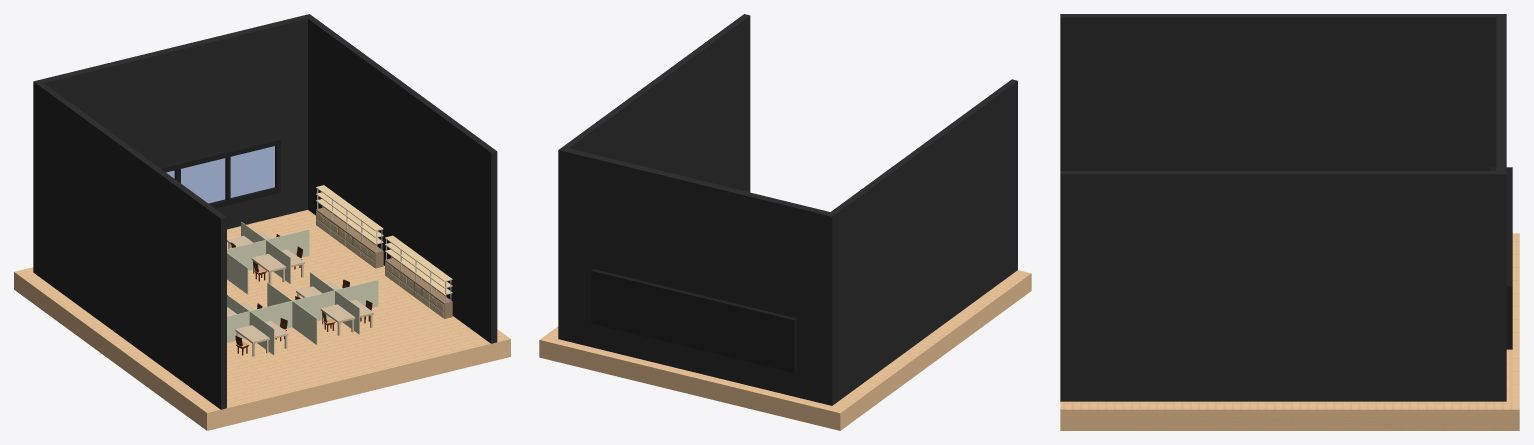
The model's file is Office.glb.
3 renders of one model, left to right at view 1: azimuth 30°, elevation 25°; view 2: azimuth 150°, elevation 25°; view 3: azimuth 270°, elevation 25°, orthographic. The views are drawn at different scales.
Visible parts, largest first — view 1: Wall, Floor, All, AllCubicle, Window; view 2: Wall, Floor, Window; view 3: Wall, Floor, Window.
Part boxes in pixels (x1,y1,x2,y2): Wall: (33,14,497,409); Floor: (14,210,510,430); All: (227,185,452,356); AllCubicle: (227,222,378,355); Window: (158,137,280,208); Wall: (558,14,1017,405); Floor: (539,270,1031,430); Window: (591,269,796,372); Wall: (1060,14,1506,401); Floor: (1060,233,1519,430); Window: (1489,167,1512,349).
Size of the model in its own units: 35.59 by 23.4 by 39.18.
Materials: 11 (1 with a texture image).
